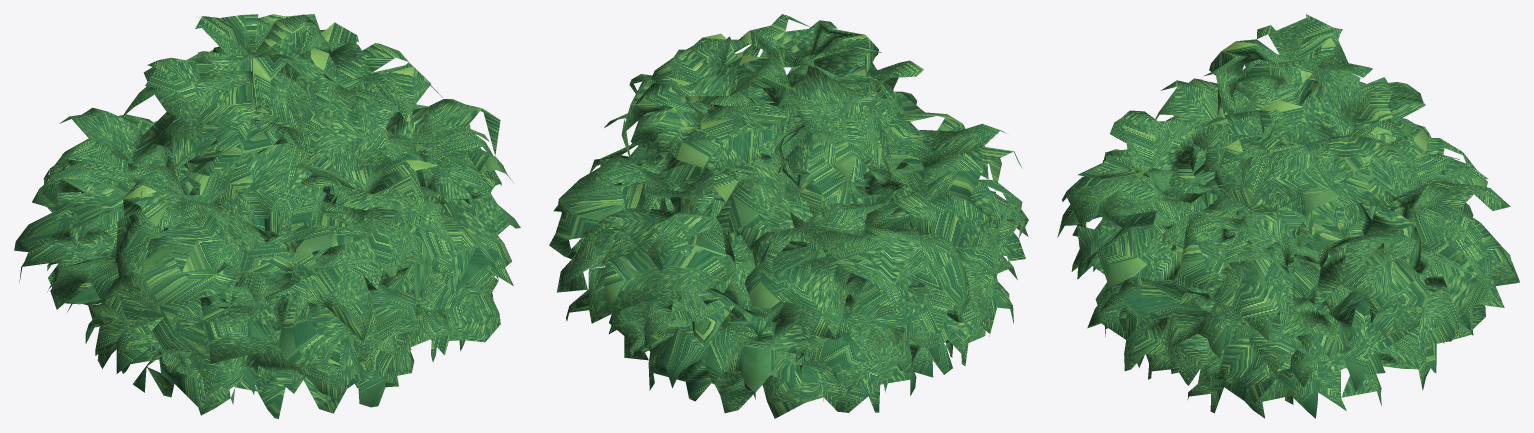
File: shrub.glb
The picture shows the model from 3 angles, left to right: view 1: azimuth 30°, elevation 25°; view 2: azimuth 150°, elevation 25°; view 3: azimuth 270°, elevation 25°; orthographic projection. The views are drawn at different scales.
Size of the model in its own units: 0.9482 by 0.8012 by 0.9414.
Materials: 1 (1 with a texture image).
